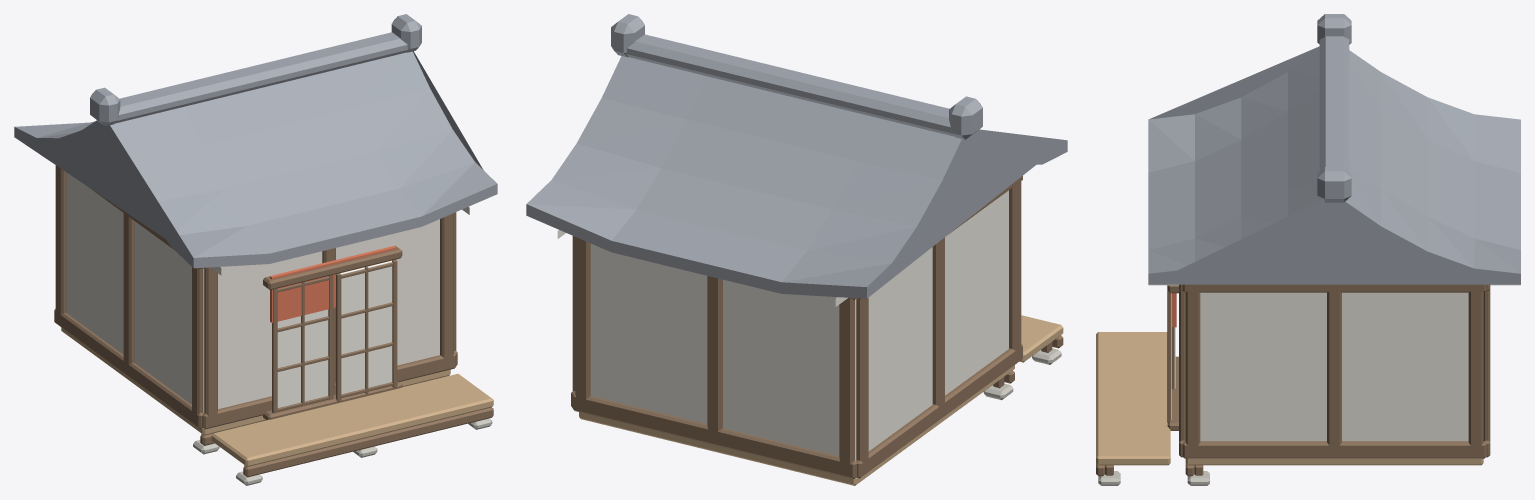
Rendered from feudal-japan-castle-town-shrine-office-e8c8cc88__26215.glb.
3 renders of one model, left to right at view 1: azimuth 30°, elevation 25°; view 2: azimuth 150°, elevation 25°; view 3: azimuth 270°, elevation 25°, orthographic. The views are drawn at different scales.
Parts seen in each view (by area): view 1: shrine-office; view 2: shrine-office; view 3: shrine-office.
Part boxes in pixels (x1,y1,x2,y2): shrine-office: [14, 14, 497, 485]; shrine-office: [526, 14, 1067, 485]; shrine-office: [1096, 14, 1520, 485].
Bounding box in the file's own units: 5.2 × 4.91 × 5.7.
